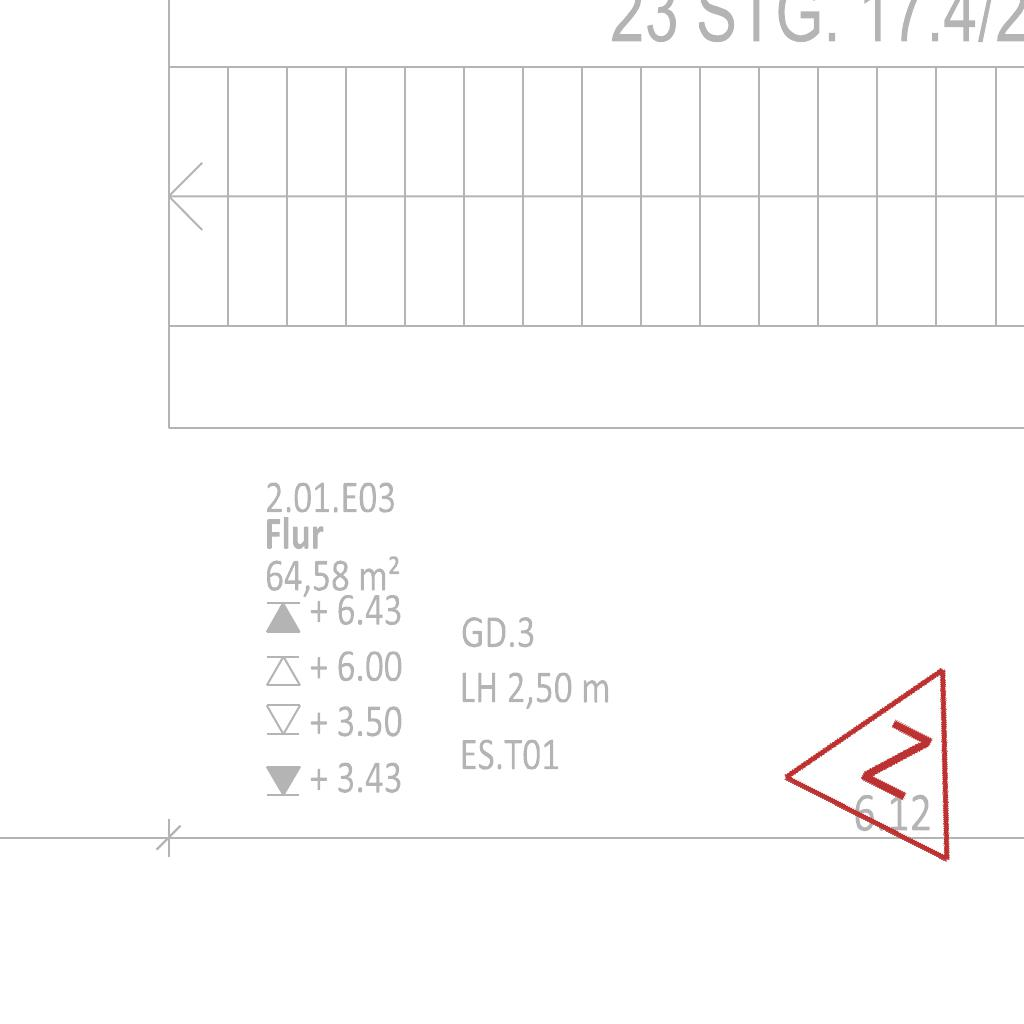Zimmersignalleuchte: (769, 610, 1024, 878)
